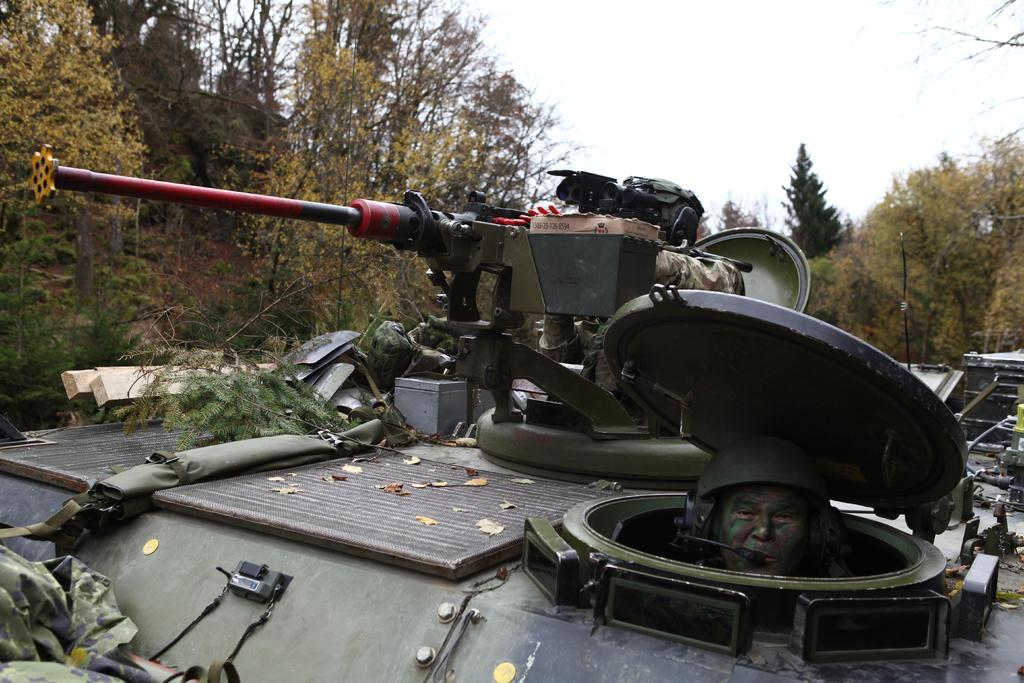Tank: (0, 163, 1023, 682)
